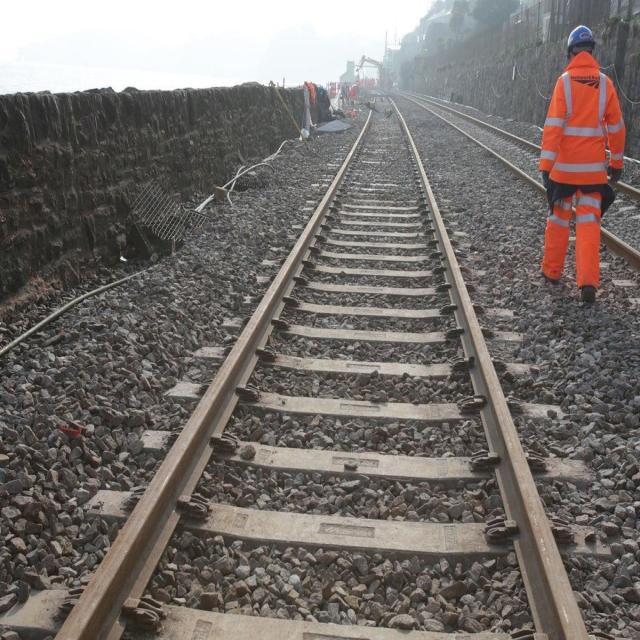danger: (527, 18, 634, 305)
rail: (16, 87, 617, 640), (390, 91, 640, 294)
